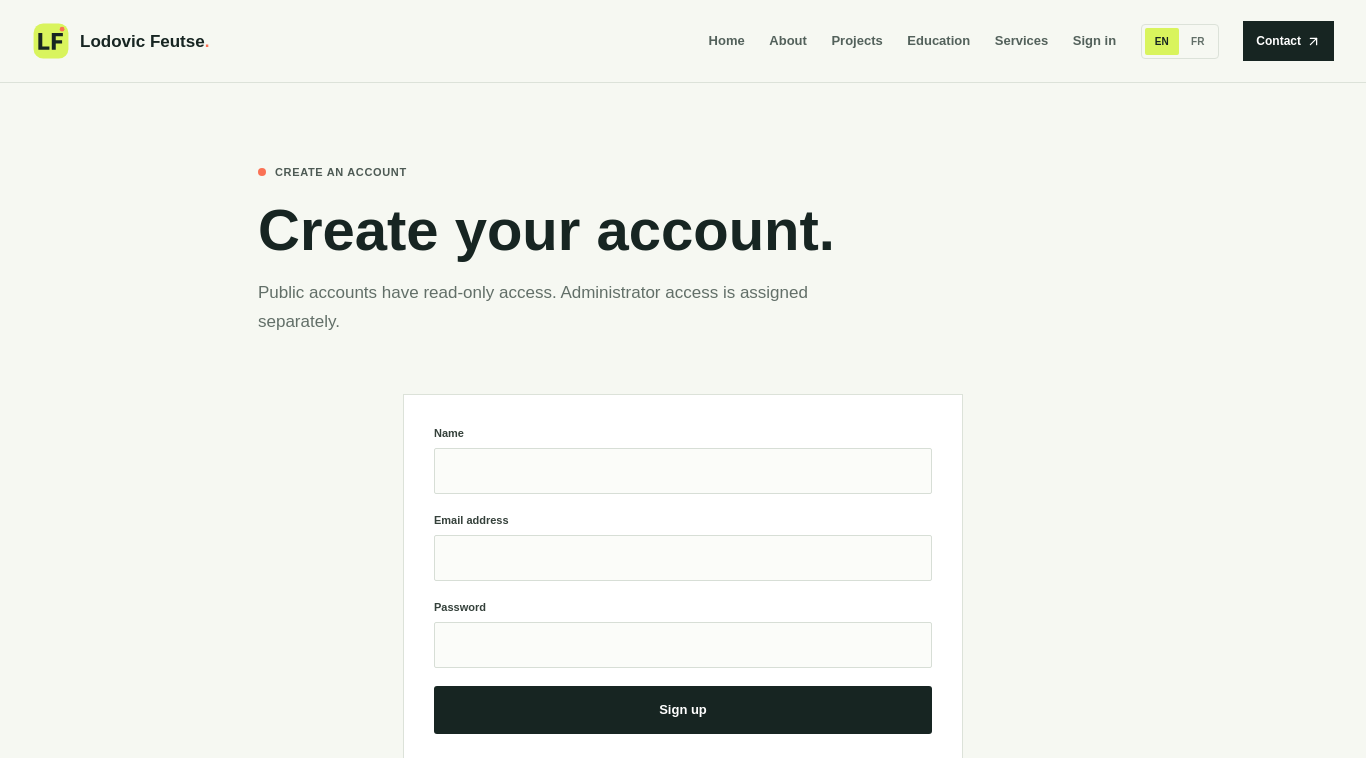
Test: authentication and dashboard › explains a network failure during sign-up
In the field labelled "Name": {"x": 683, "y": 471} [434,448,932,494], type "Alex Example"
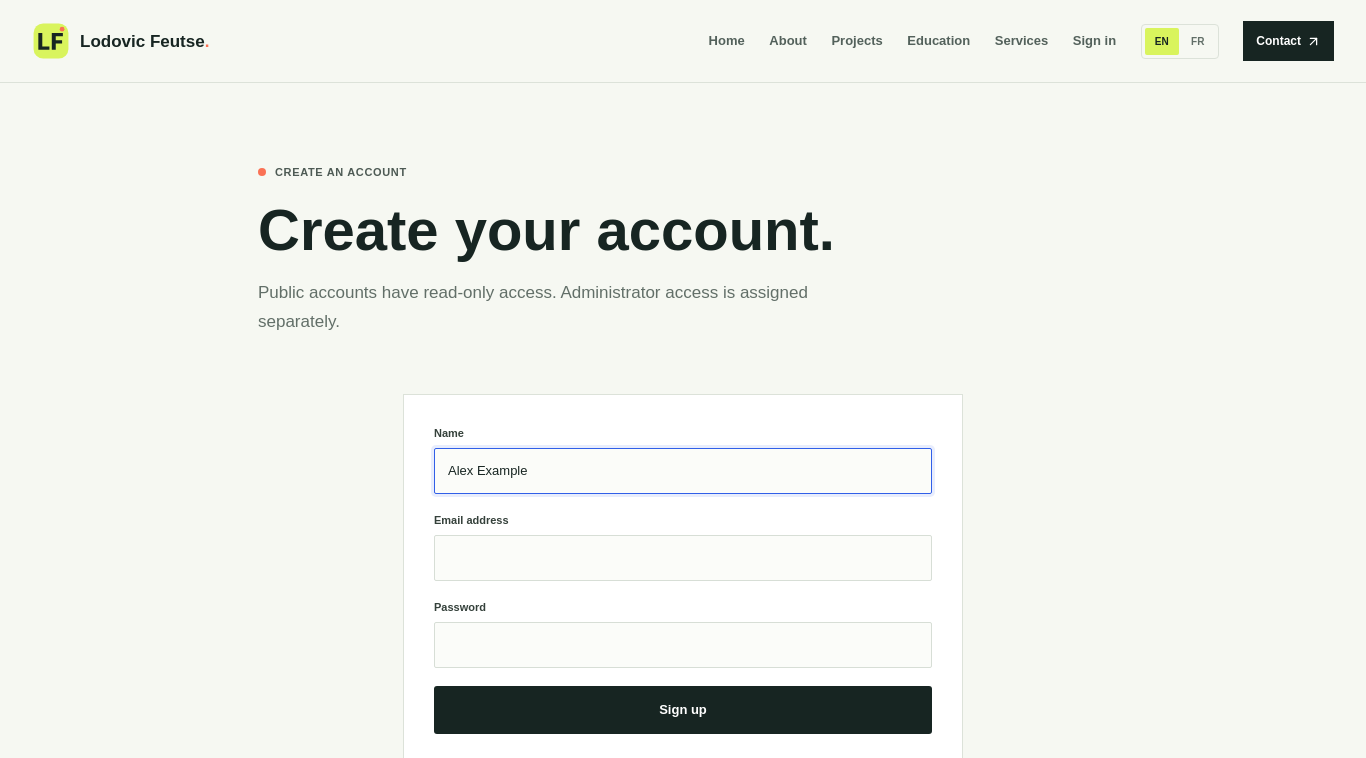
In the field labelled "Email address": {"x": 683, "y": 558} [434,535,932,581], type "alex@example.test"
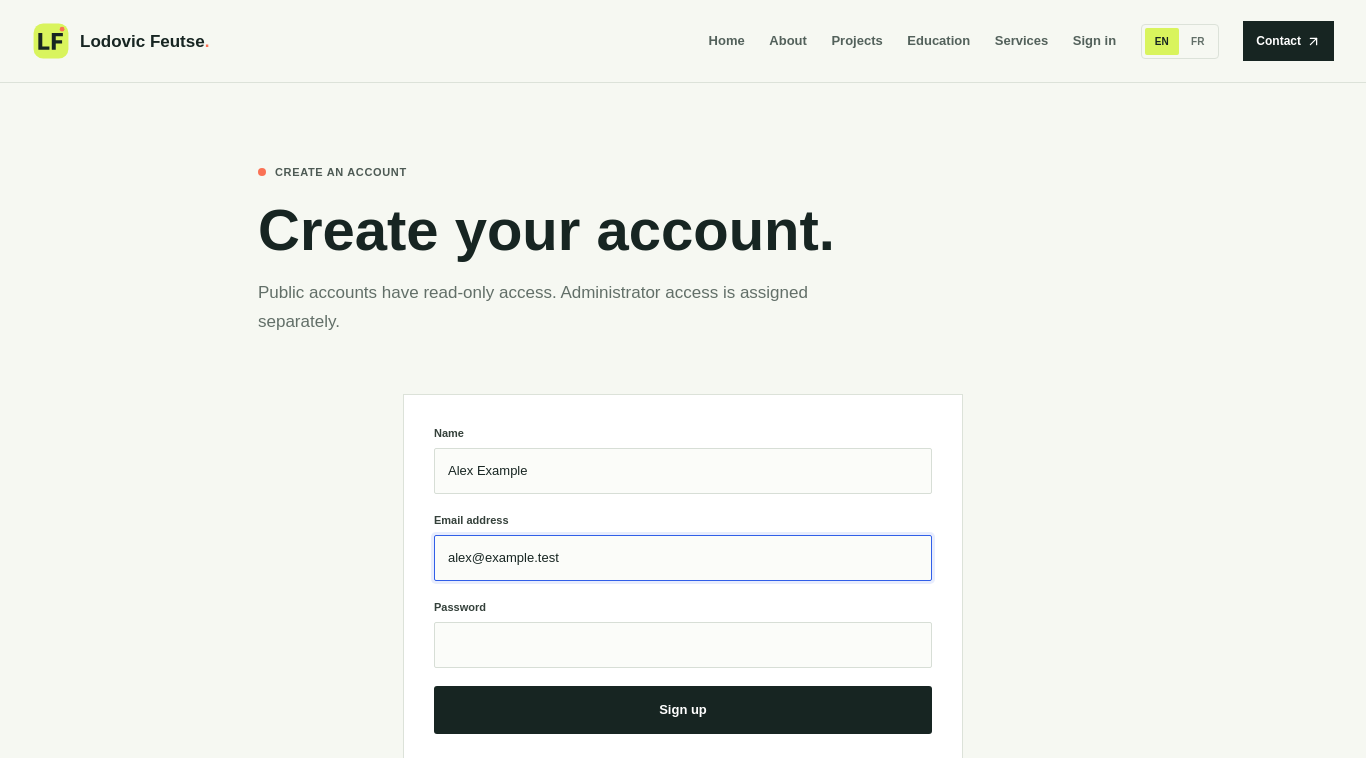
In the password field labelled "Password": {"x": 683, "y": 645} [434,622,932,668], type "password123"
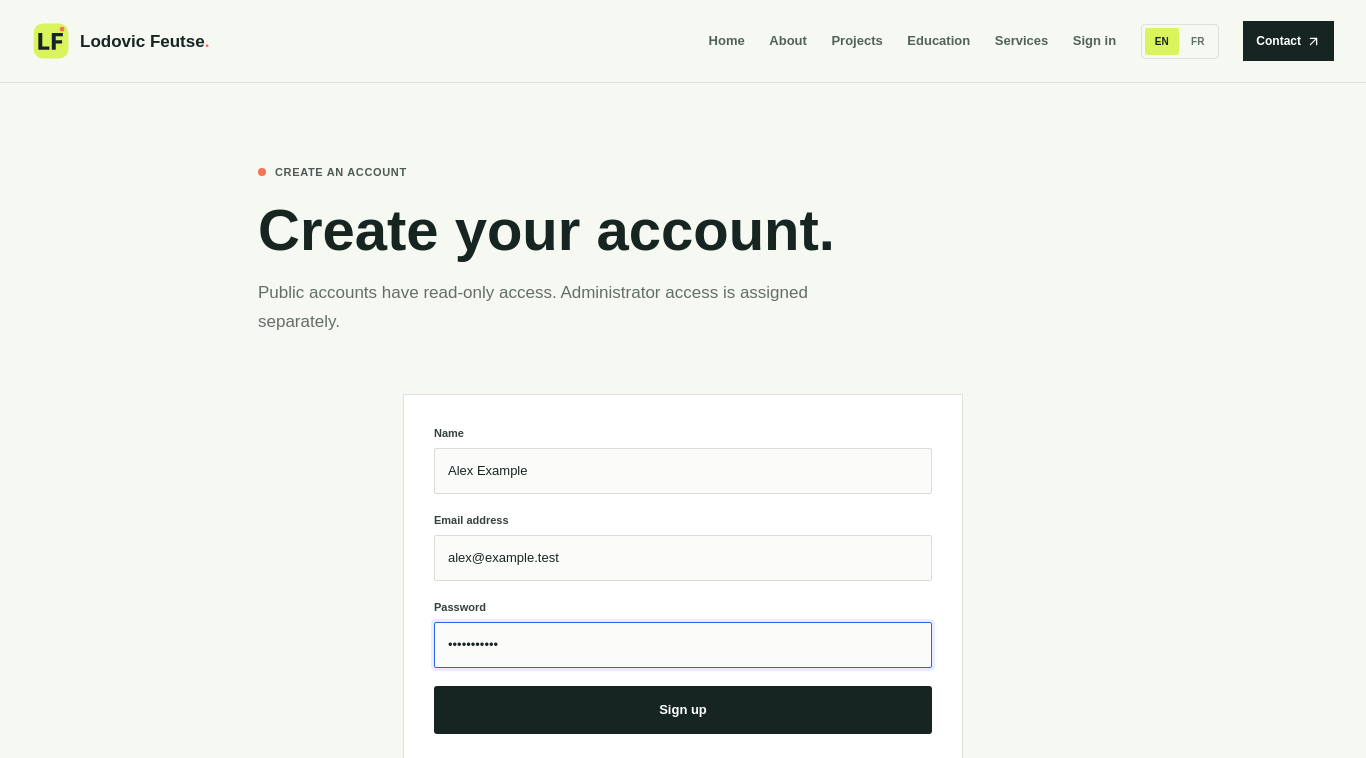
Click the button "Sign up": {"x": 683, "y": 710} [434,686,932,734]
(page scrolled)
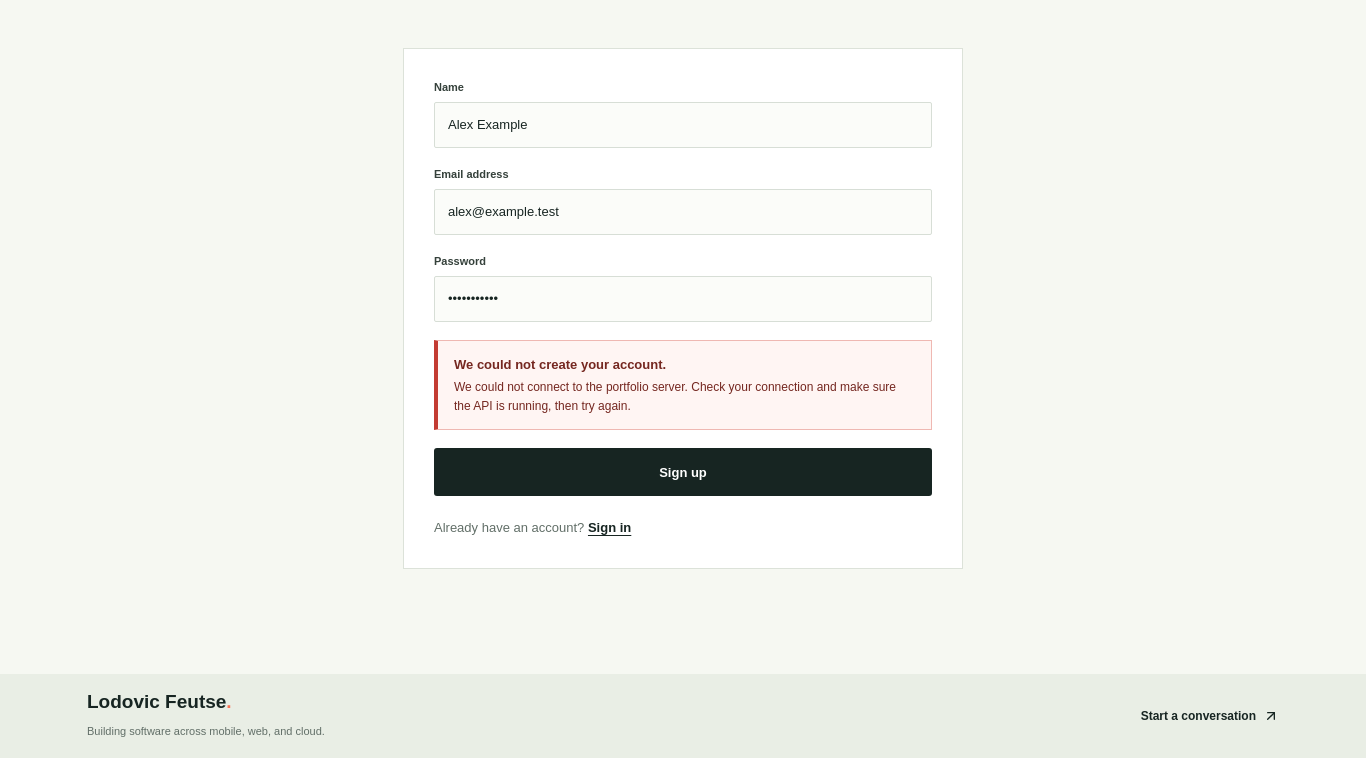
Expected: the message shows "could not connect to the portfolio server", [454,380,896,413]
